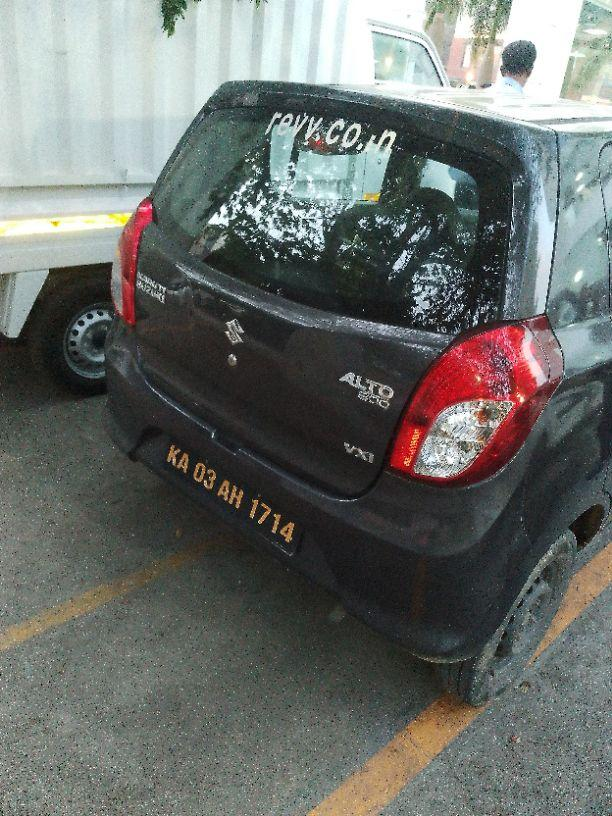license_plate: (156, 436, 306, 558)
